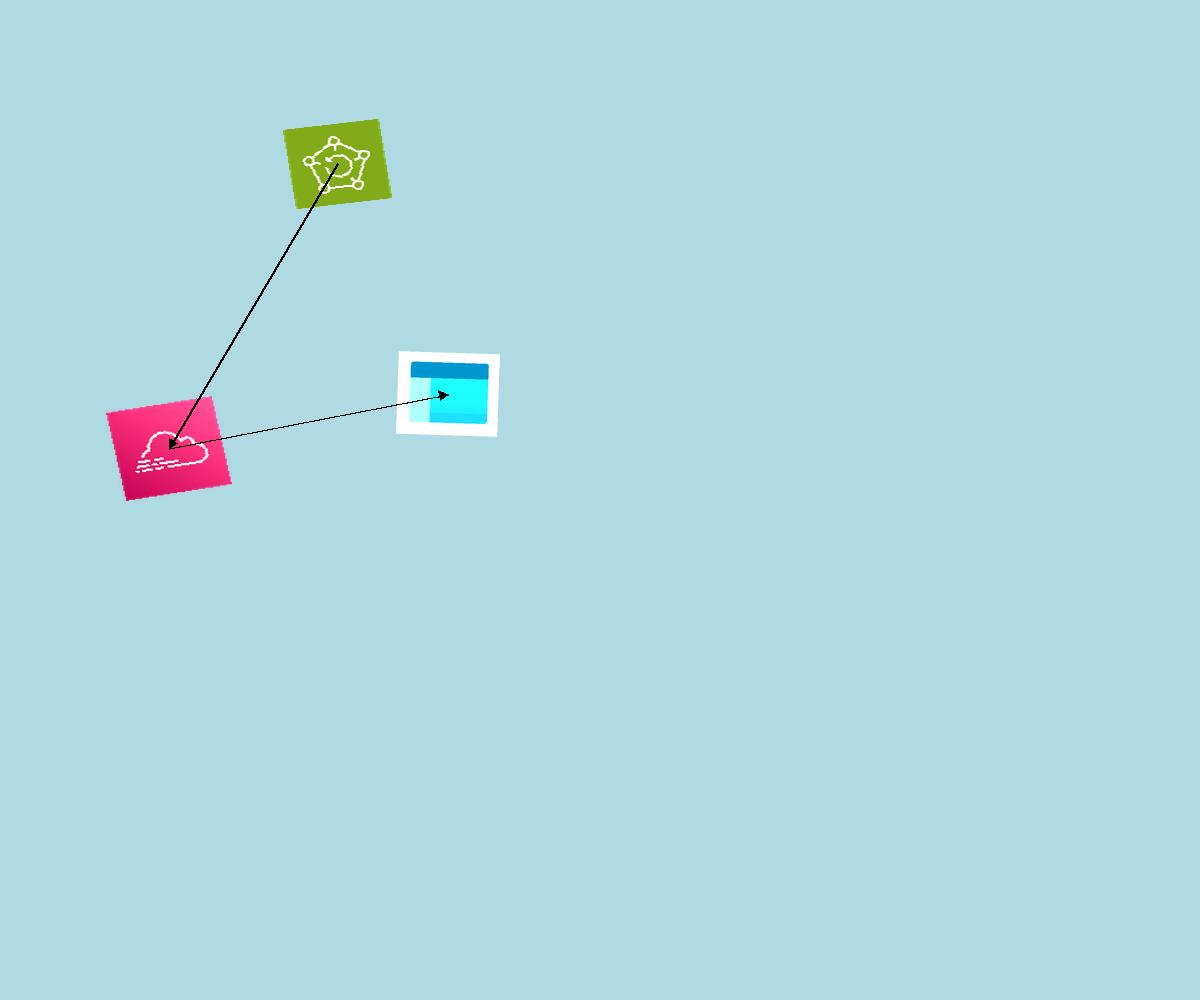AWS-Backup: (282, 118, 393, 210)
AWS-CloudTrail: (106, 396, 232, 501)
Azure_management-portal: (396, 351, 500, 437)
